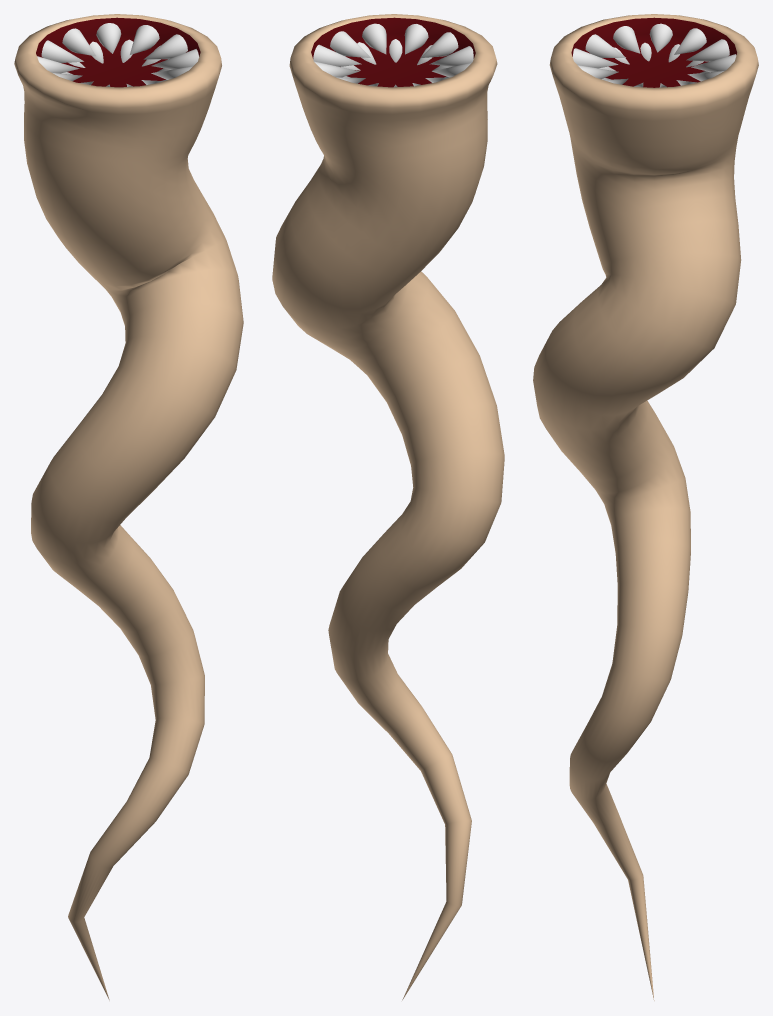
Rendered from SLURPER.glb.
The picture shows the model from 3 angles, left to right: view 1: azimuth 30°, elevation 25°; view 2: azimuth 150°, elevation 25°; view 3: azimuth 270°, elevation 25°; orthographic projection.
Parts seen in each view (by area): view 1: POOL_SUCKER; view 2: POOL_SUCKER; view 3: POOL_SUCKER.
Boxes of the visible parts, bbox=[...] form: POOL_SUCKER: bbox=[14, 14, 243, 1000]; POOL_SUCKER: bbox=[272, 14, 504, 1000]; POOL_SUCKER: bbox=[533, 14, 758, 1000].
Bounding box in the file's own units: 0.1667 × 0.7508 × 0.1613.
